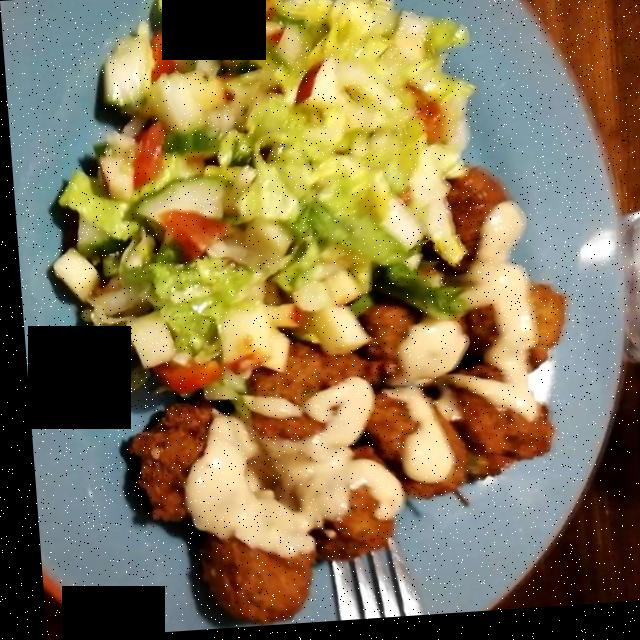apple: (217, 48, 365, 380)
falafel-balls: (130, 184, 560, 619)
mixed-salad-chopped-without-sauce: (52, 0, 473, 400)
tomato-raw: (132, 22, 227, 395)
